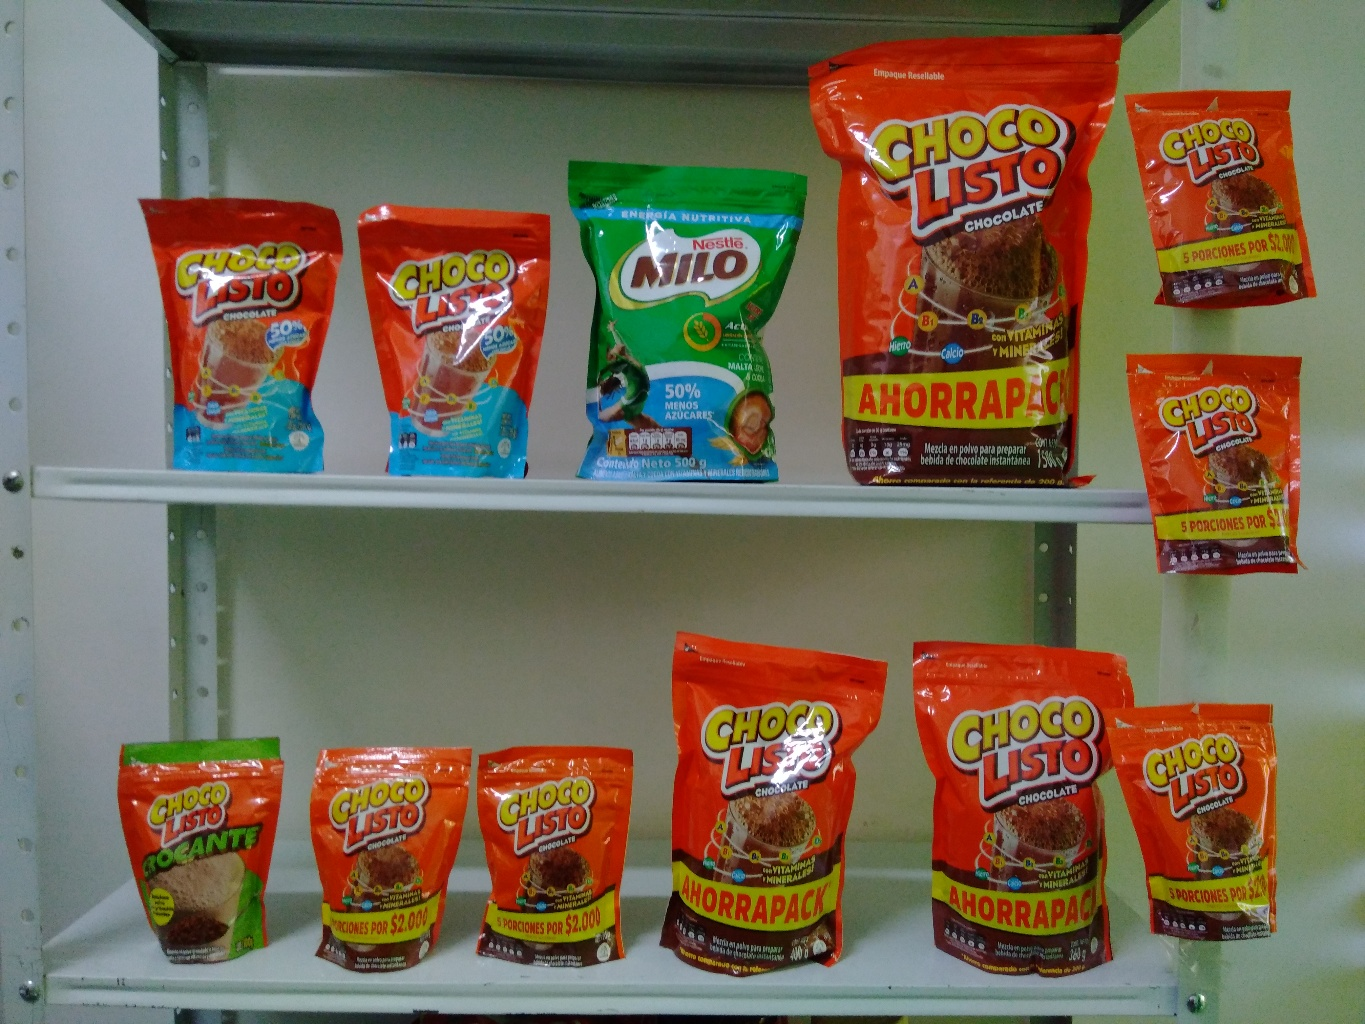COL0170102DYP10000: (106, 723, 302, 972)
COL0170103DYP1,500: (793, 31, 1122, 504)
COL0170103DYP10000: (1101, 686, 1298, 945)
COL0170103DYP36000: (902, 632, 1147, 981)
COL0170103DYP40000: (653, 611, 896, 981)
COL0170104DYP20000: (343, 195, 559, 489)
COL0170205DYP50000: (560, 153, 813, 496)
